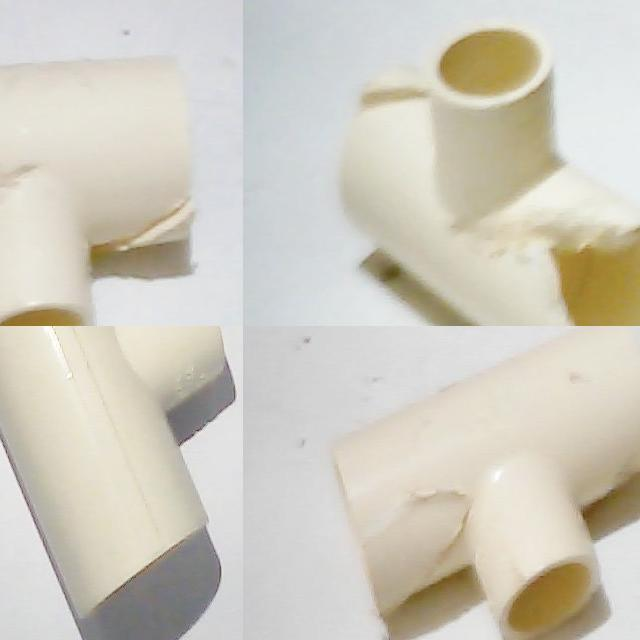Defective: (457, 195, 637, 326), (352, 474, 488, 621), (101, 192, 213, 270), (495, 227, 630, 275), (356, 74, 434, 130), (545, 301, 620, 326)
T Joint: (330, 326, 640, 640), (338, 21, 640, 326), (0, 56, 197, 326)
